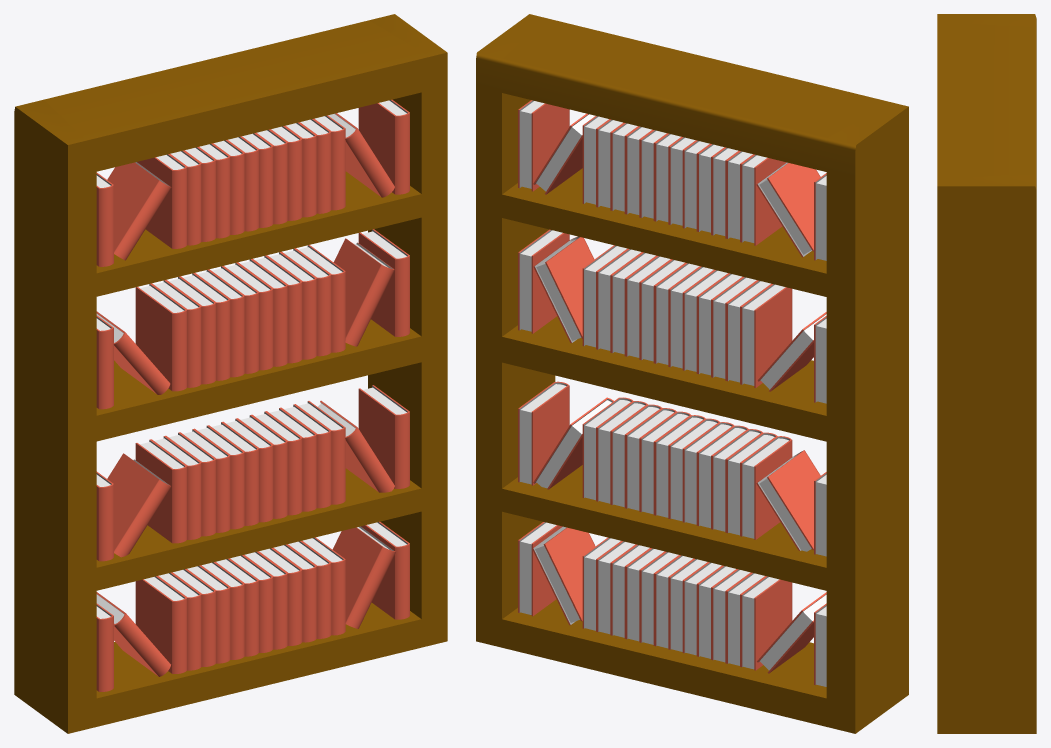
Rendered from Hondana.fbx.
3 views of the same model, side by side, from view 1: azimuth 30°, elevation 25°; view 2: azimuth 150°, elevation 25°; view 3: azimuth 270°, elevation 25° (orthographic). The views are drawn at different scales.
Parts seen in each view (by area): view 1: Hondana; view 2: Hondana; view 3: Hondana.
Boxes of the visible parts, <box> form: Hondana: <box>14,14,447,733</box>; Hondana: <box>476,14,908,733</box>; Hondana: <box>937,14,1036,733</box>.
Size of the model in its own units: 268 by 397 by 65.24.
